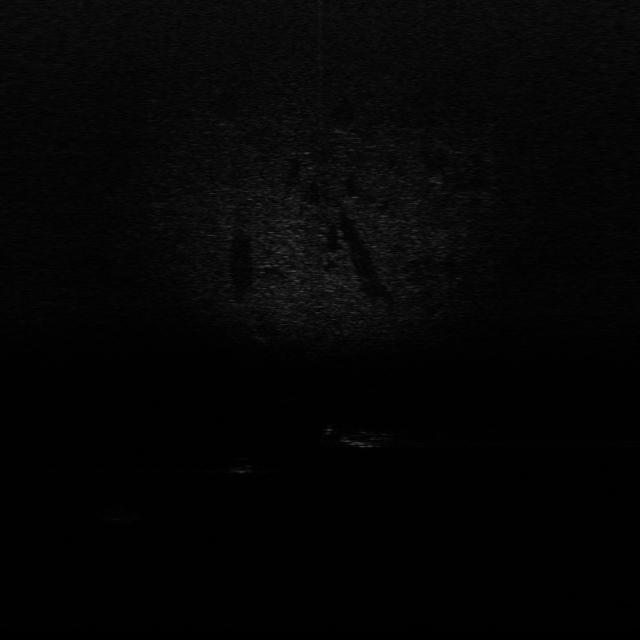ball: (227, 455, 259, 475)
circle cage: (96, 501, 146, 527)
human body: (316, 422, 406, 448)
